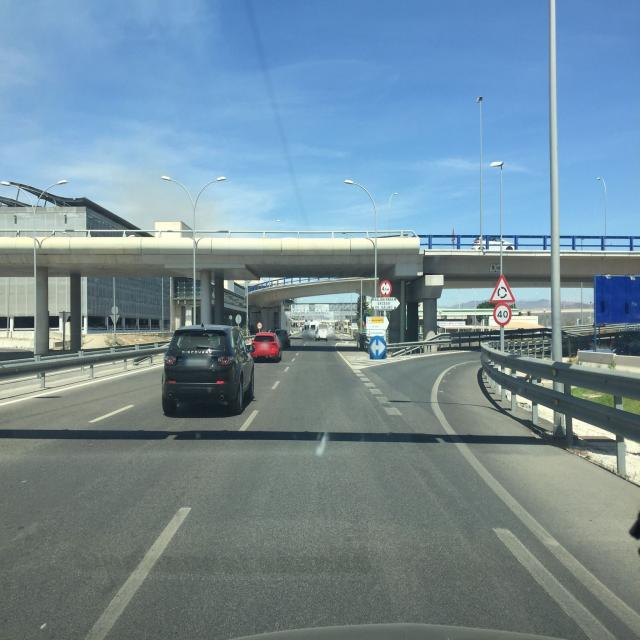car: (162, 323, 256, 416), (251, 332, 282, 362), (274, 328, 291, 348), (314, 326, 328, 341)
